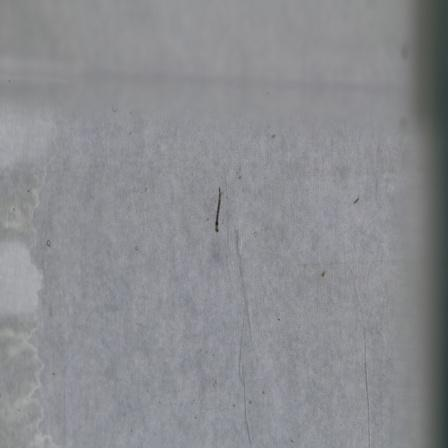Jentik-Nyamuk: (208, 182, 227, 237)
